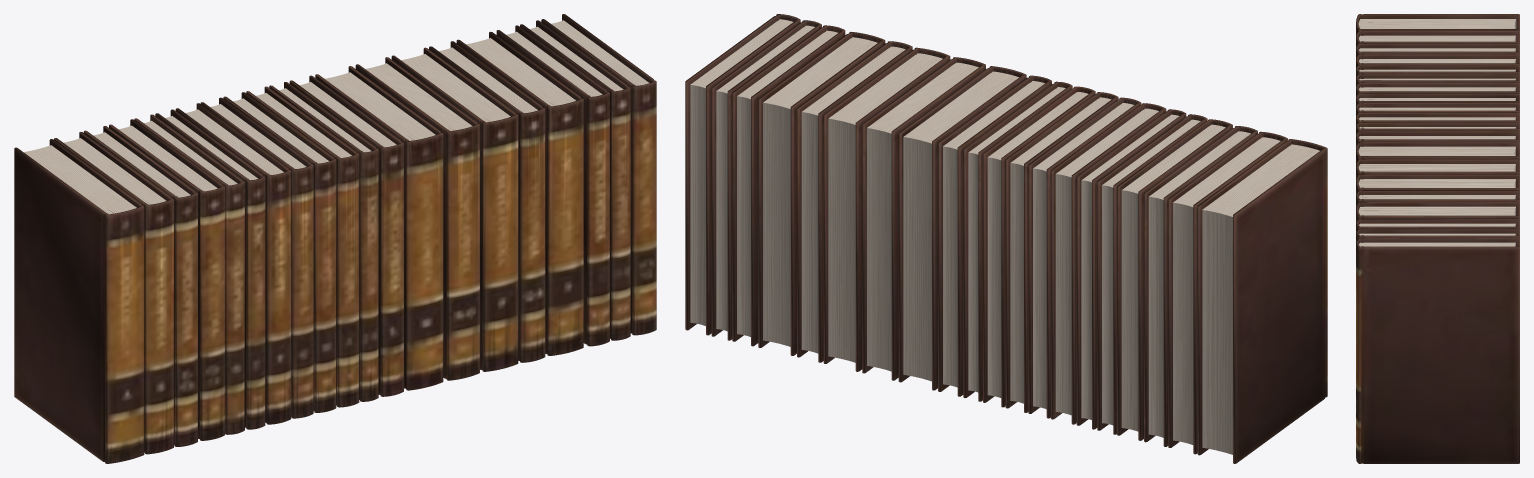
Rendered from book_encyclopedia_set_01.glb.
3 renders of one model, left to right at view 1: azimuth 30°, elevation 25°; view 2: azimuth 150°, elevation 25°; view 3: azimuth 270°, elevation 25°, orthographic. The views are drawn at different scales.
Visible parts, largest first — view 1: book_encyclopedia_set_01_book01, book_encyclopedia_set_01_book13, book_encyclopedia_set_01_book15, book_encyclopedia_set_01_book17, book_encyclopedia_set_01_book14, book_encyclopedia_set_01_book02, book_encyclopedia_set_01_book16, book_encyclopedia_set_01_book04, book_encyclopedia_set_01_book18, book_encyclopedia_set_01_book20, book_encyclopedia_set_01_book07, book_encyclopedia_set_01_book12 (+8 smaller); view 2: book_encyclopedia_set_01_book01, book_encyclopedia_set_01_book13, book_encyclopedia_set_01_book15, book_encyclopedia_set_01_book17, book_encyclopedia_set_01_book14, book_encyclopedia_set_01_book02, book_encyclopedia_set_01_book04, book_encyclopedia_set_01_book16, book_encyclopedia_set_01_book18, book_encyclopedia_set_01_book20, book_encyclopedia_set_01_book07, book_encyclopedia_set_01_book12 (+8 smaller); view 3: book_encyclopedia_set_01_book20, book_encyclopedia_set_01_book13, book_encyclopedia_set_01_book01, book_encyclopedia_set_01_book17, book_encyclopedia_set_01_book15, book_encyclopedia_set_01_book14, book_encyclopedia_set_01_book02, book_encyclopedia_set_01_book16, book_encyclopedia_set_01_book03, book_encyclopedia_set_01_book12, book_encyclopedia_set_01_book07, book_encyclopedia_set_01_book04 (+8 smaller).
Boxes of the visible parts, x1,y1,x2,y2 form: book_encyclopedia_set_01_book01: [14, 139, 144, 463]; book_encyclopedia_set_01_book13: [315, 66, 443, 390]; book_encyclopedia_set_01_book15: [391, 47, 518, 371]; book_encyclopedia_set_01_book17: [456, 31, 583, 355]; book_encyclopedia_set_01_book14: [355, 57, 479, 380]; book_encyclopedia_set_01_book02: [54, 132, 173, 454]; book_encyclopedia_set_01_book16: [429, 41, 545, 362]; book_encyclopedia_set_01_book04: [109, 119, 224, 440]; book_encyclopedia_set_01_book18: [496, 25, 609, 346]; book_encyclopedia_set_01_book20: [541, 14, 656, 335]; book_encyclopedia_set_01_book07: [175, 103, 291, 424]; book_encyclopedia_set_01_book12: [289, 75, 403, 396]; book_encyclopedia_set_01_book01: [1197, 139, 1327, 463]; book_encyclopedia_set_01_book13: [898, 66, 1026, 390]; book_encyclopedia_set_01_book15: [823, 47, 950, 371]; book_encyclopedia_set_01_book17: [758, 32, 885, 355]; book_encyclopedia_set_01_book14: [862, 57, 985, 380]; book_encyclopedia_set_01_book02: [1168, 131, 1287, 454]; book_encyclopedia_set_01_book04: [1117, 119, 1232, 440]; book_encyclopedia_set_01_book16: [797, 41, 912, 362]; book_encyclopedia_set_01_book18: [732, 25, 845, 346]; book_encyclopedia_set_01_book20: [685, 14, 800, 335]; book_encyclopedia_set_01_book07: [1051, 103, 1166, 424]; book_encyclopedia_set_01_book12: [938, 75, 1051, 396]; book_encyclopedia_set_01_book20: [1356, 238, 1519, 463]; book_encyclopedia_set_01_book13: [1356, 142, 1519, 164]; book_encyclopedia_set_01_book01: [1356, 14, 1519, 36]; book_encyclopedia_set_01_book17: [1356, 202, 1519, 223]; book_encyclopedia_set_01_book15: [1356, 174, 1519, 194]; book_encyclopedia_set_01_book14: [1356, 159, 1519, 180]; book_encyclopedia_set_01_book02: [1356, 30, 1519, 47]; book_encyclopedia_set_01_book16: [1356, 190, 1519, 208]; book_encyclopedia_set_01_book03: [1356, 43, 1519, 58]; book_encyclopedia_set_01_book12: [1356, 131, 1519, 148]; book_encyclopedia_set_01_book07: [1356, 82, 1519, 96]; book_encyclopedia_set_01_book04: [1356, 54, 1519, 68].
Bounding box in the file's own units: 0.5513 × 0.2374 × 0.1631.
Materials: 2 (2 with a texture image).
